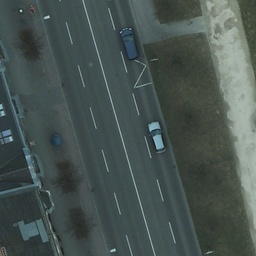car: (119, 26, 141, 59), (147, 120, 166, 152)
